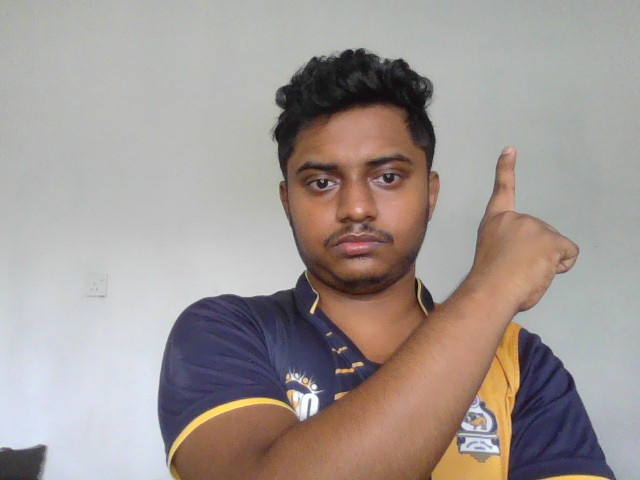Me: (476, 146, 581, 322)
